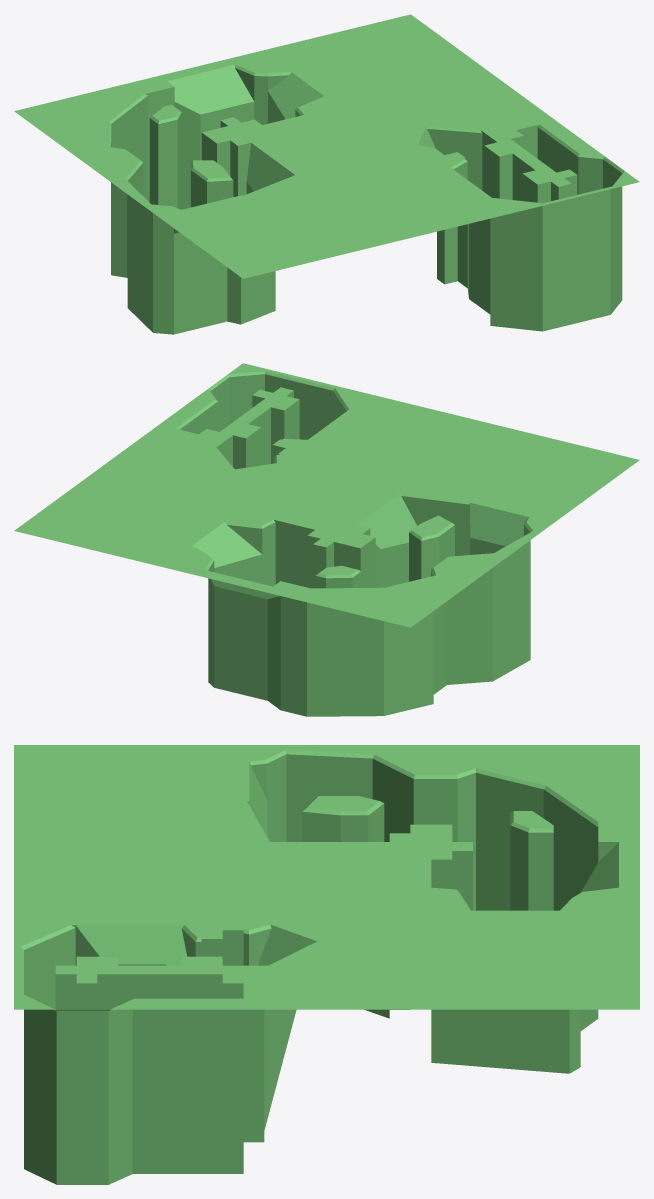
File: x_oo_ground_43_Y1_1_rmstrd.fbx
3 renders of one model, top to bottom at view 1: azimuth 30°, elevation 25°; view 2: azimuth 150°, elevation 25°; view 3: azimuth 270°, elevation 25°, orthographic. The views are drawn at different scales.
Visible parts, largest first — view 1: x_oo_ground_43_Y1_1_rmstrd1; view 2: x_oo_ground_43_Y1_1_rmstrd1; view 3: x_oo_ground_43_Y1_1_rmstrd1.
Part boxes in pixels (bbox=[...]): x_oo_ground_43_Y1_1_rmstrd1: bbox=[14, 14, 639, 334]; x_oo_ground_43_Y1_1_rmstrd1: bbox=[14, 363, 639, 716]; x_oo_ground_43_Y1_1_rmstrd1: bbox=[14, 745, 639, 1184].
Size of the model in its own units: 30 by 9.34 by 30.
